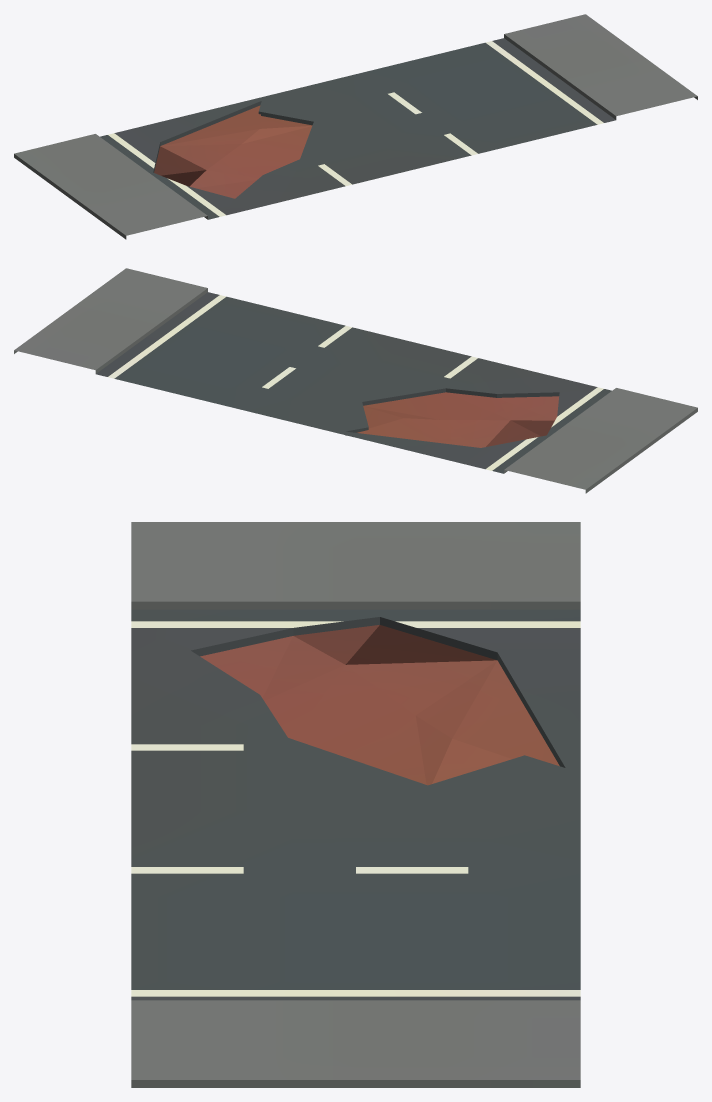
Rendered from city_road_roadworks.glb.
3 views of the same model, one above another, from view 1: azimuth 30°, elevation 25°; view 2: azimuth 150°, elevation 25°; view 3: azimuth 270°, elevation 25° (orthographic). The views are drawn at different scales.
Parts seen in each view (by area): view 1: Road_Roadworks; view 2: Road_Roadworks; view 3: Road_Roadworks.
Part boxes in pixels (x1=…): Road_Roadworks: x1=14, y1=14, x2=697, y2=239; Road_Roadworks: x1=14, y1=268, x2=697, y2=493; Road_Roadworks: x1=131, y1=522, x2=580, y2=1087.
Size of the model in its own units: 6 by 0.0798 by 2.04.
Materials: 1 (1 with a texture image).
